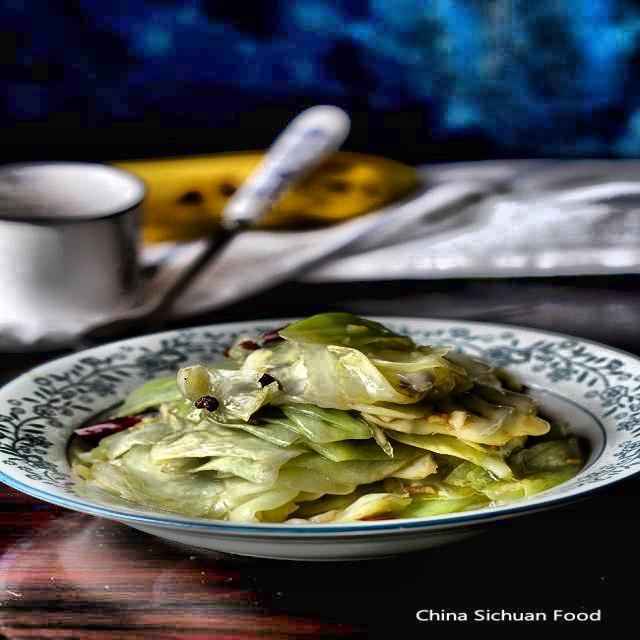Food: (100, 327, 523, 516)
